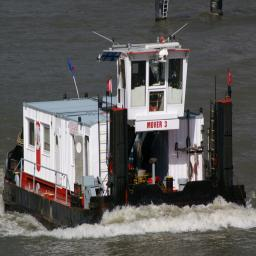tugboat: (3, 34, 249, 239)
